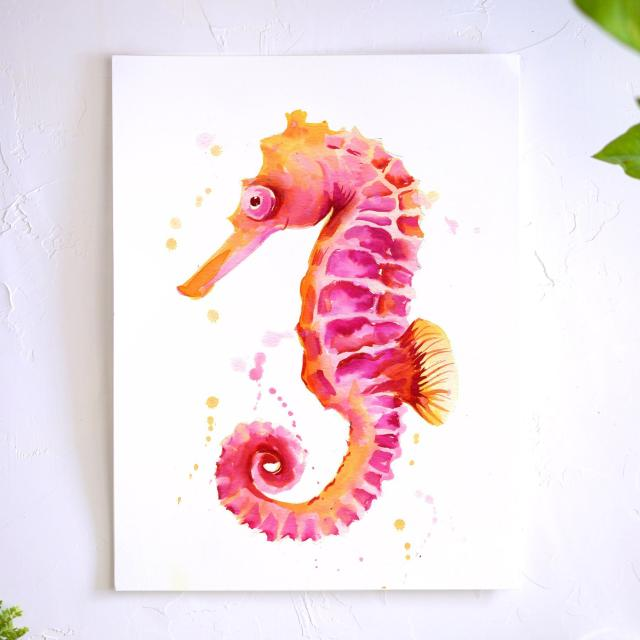seahorse: (177, 110, 457, 540)
